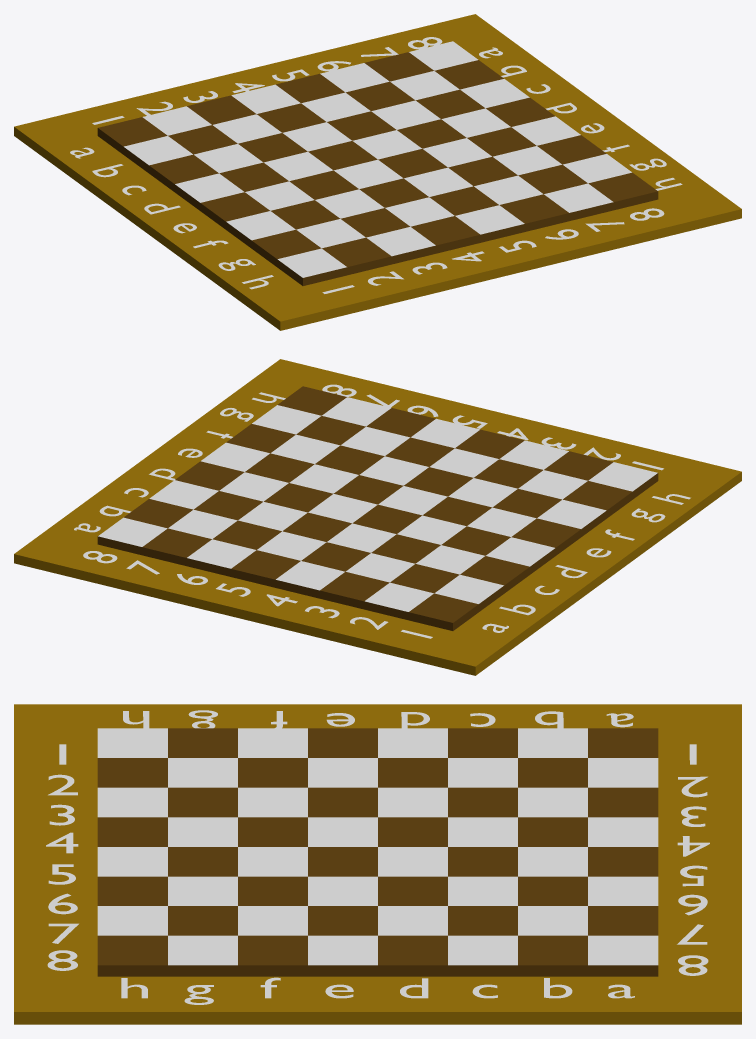
File: Board_Wild West.fbx
3 views of the same model, one above another, from view 1: azimuth 30°, elevation 25°; view 2: azimuth 150°, elevation 25°; view 3: azimuth 270°, elevation 25° (orthographic). The views are drawn at different scales.
Parts seen in each view (by area): view 1: Cube, Cube.001; view 2: Cube, Cube.001; view 3: Cube, Cube.001.
Part boxes in pixels (x1,y1,x2,y2): Cube: [97, 41, 658, 285]; Cube.001: [14, 14, 741, 330]; Cube: [97, 386, 658, 630]; Cube.001: [14, 359, 741, 675]; Cube: [97, 728, 658, 976]; Cube.001: [14, 704, 741, 1024].
Size of the model in its own units: 1039 by 37.72 by 1039.
